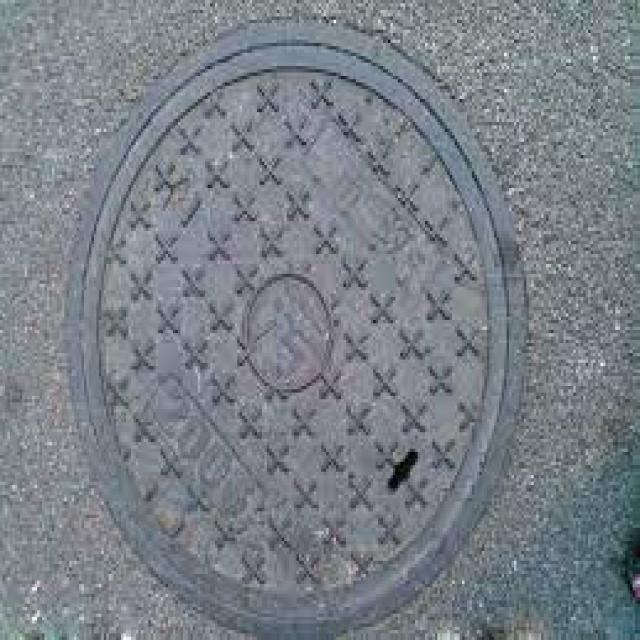manhole: (64, 22, 528, 640)
